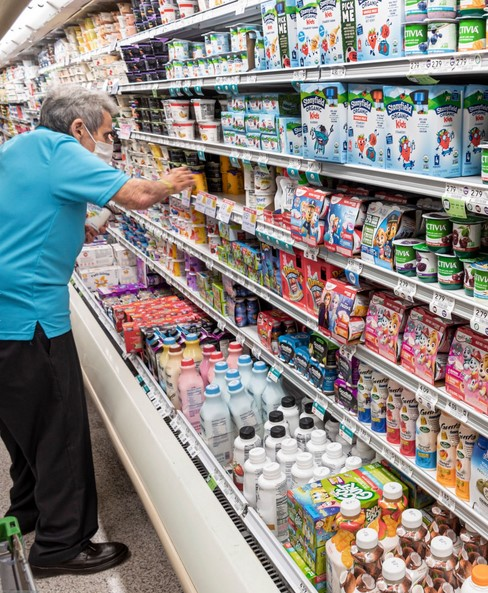face_with_mask: (48, 87, 117, 164)
